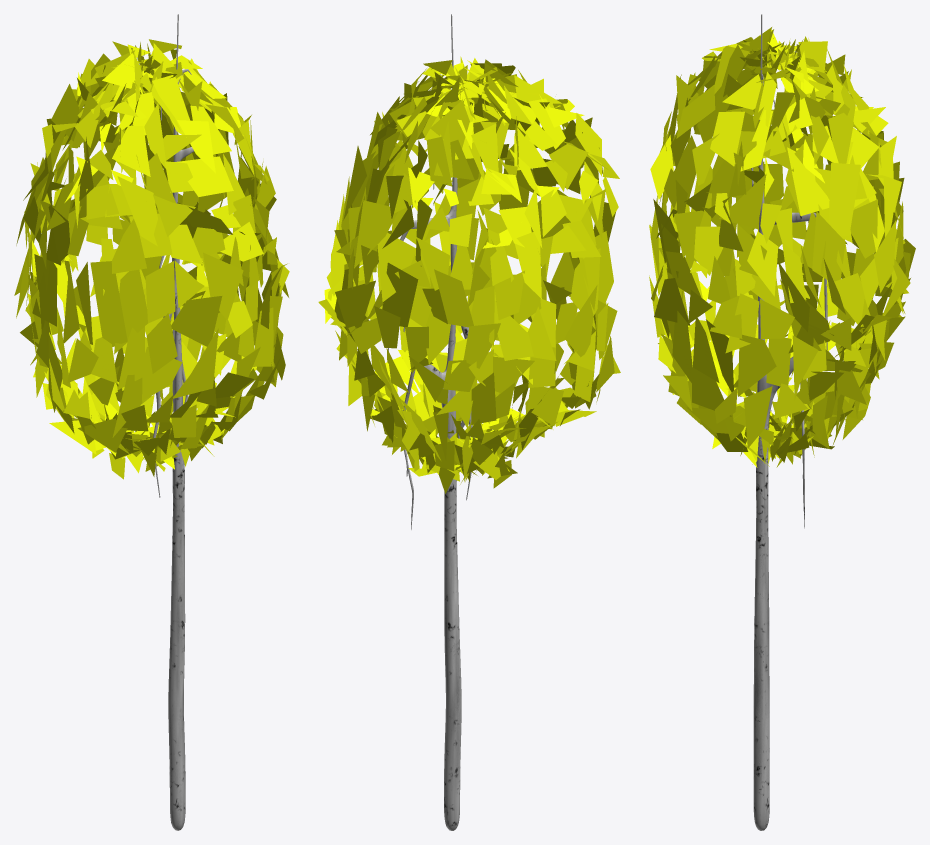
The model's file is Leaves22.002.fbx.
3 views of the same model, side by side, from view 1: azimuth 30°, elevation 25°; view 2: azimuth 150°, elevation 25°; view 3: azimuth 270°, elevation 25° (orthographic).
Visible parts, largest first — view 1: Leaves22.002; view 2: Leaves22.002; view 3: Leaves22.002.
Boxes of the visible parts, box(x1,y1,x2,y2) form: Leaves22.002: box(14, 14, 289, 830); Leaves22.002: box(318, 14, 620, 830); Leaves22.002: box(649, 14, 915, 830).
Bounding box in the file's own units: 816 × 2574 × 762.
2 materials, 1 textured.
